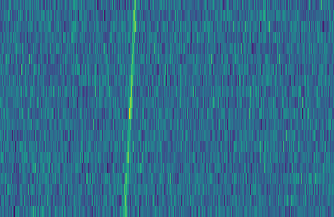signal: (119, 0, 139, 217)
